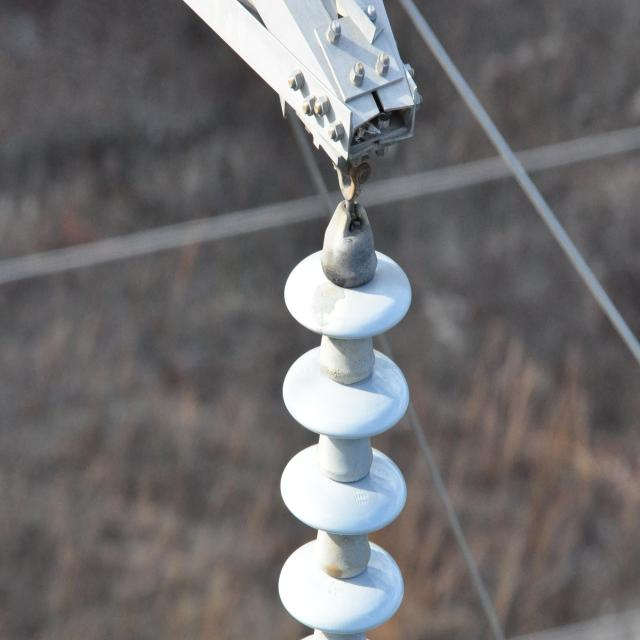insulator: (278, 247, 412, 630)
